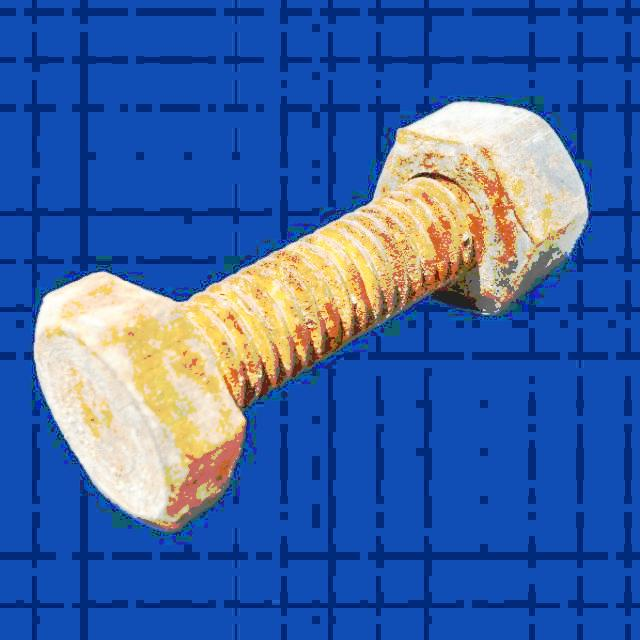Corrosion: (32, 103, 586, 531)
